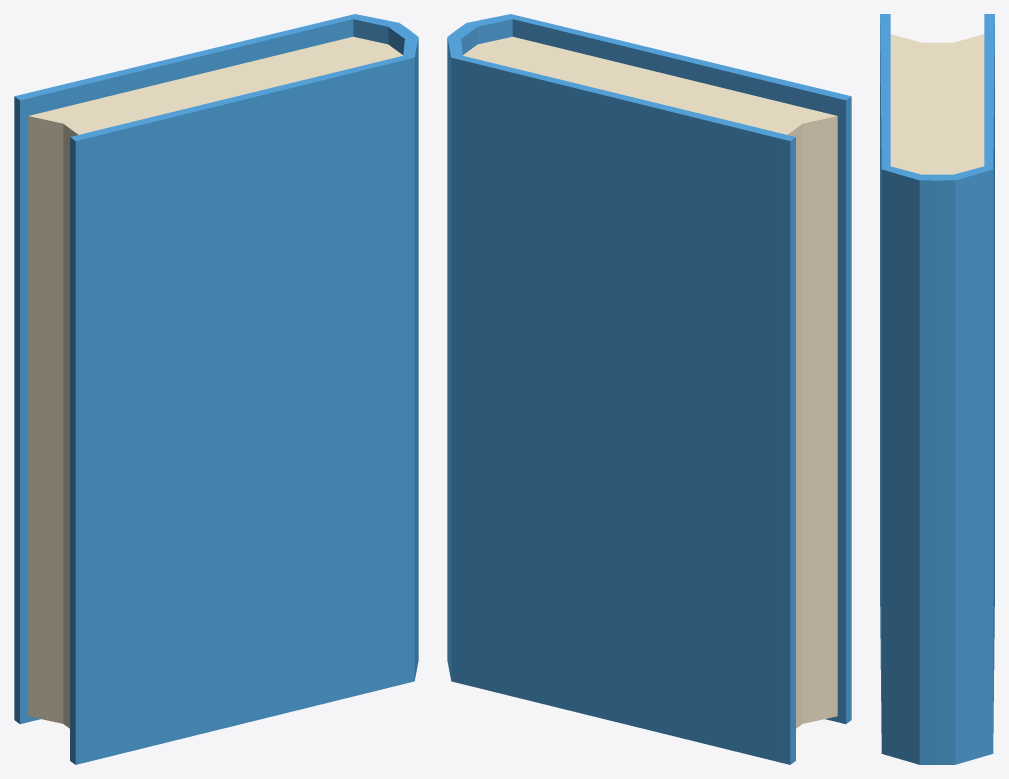
Rendered from Book_08.fbx.
3 views of the same model, side by side, from view 1: azimuth 30°, elevation 25°; view 2: azimuth 150°, elevation 25°; view 3: azimuth 270°, elevation 25° (orthographic). The views are drawn at different scales.
Visible parts, largest first — view 1: Plane.231; view 2: Plane.231; view 3: Plane.231.
Part boxes in pixels (box(x1,y1,x2,y2)): Plane.231: box(14, 14, 418, 764); Plane.231: box(447, 14, 851, 764); Plane.231: box(880, 14, 994, 764).
Size of the model in its own units: 0.3167 by 0.0922 by 0.5182.
